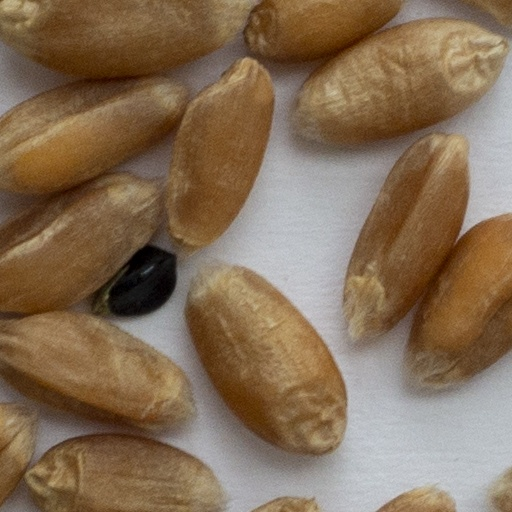Fallopia-Convolvulus-poly: (101, 248, 174, 315)
